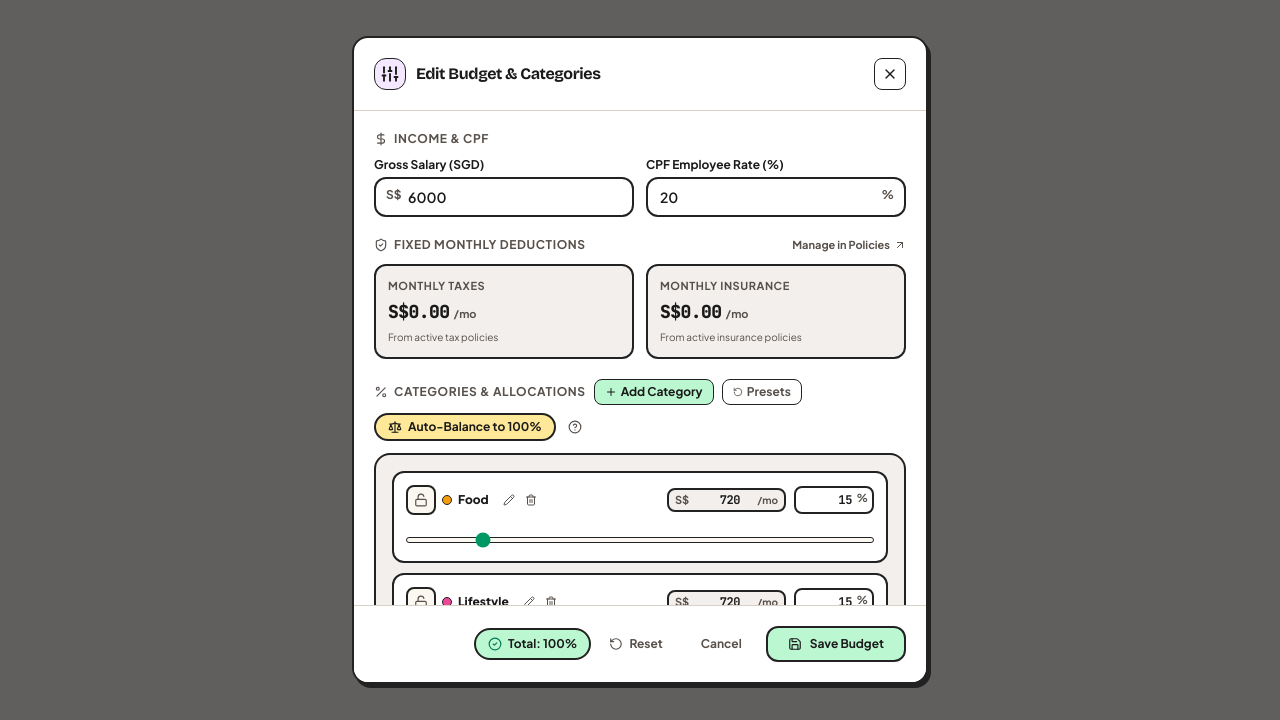
it: BaseProfileEditorModal › auto-balances unlocked categories to 100% while keeping dollar-locked category fixed
// Set Food to $480 (10%) which auto-locks it
Replace the text in the number field named "Monthly dollar amount" in the row of "Food" with "480" at (723, 500), box [691,492,755,508]
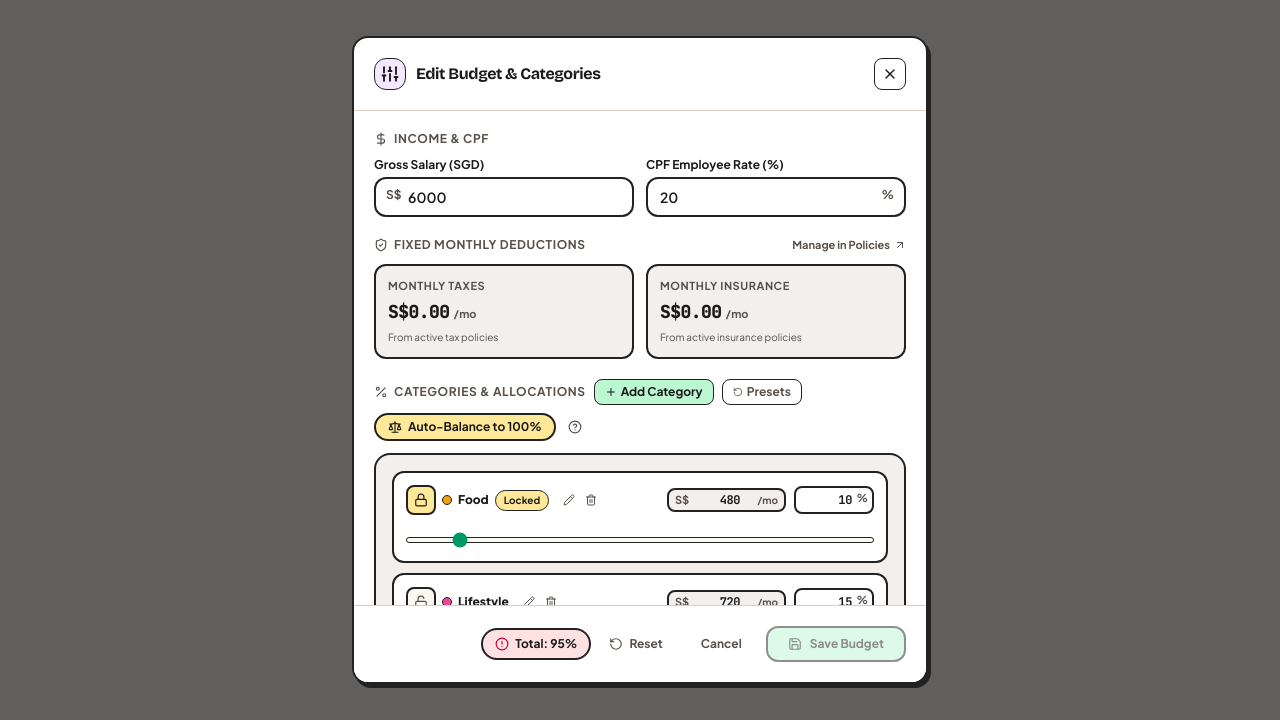
Check: the field labelled "Food" holds "10", box [794,486,874,514]
// Click Auto-Balance to 100%
Click the button "Auto-Balance to 100%" at (465, 427), box [374,413,556,441]
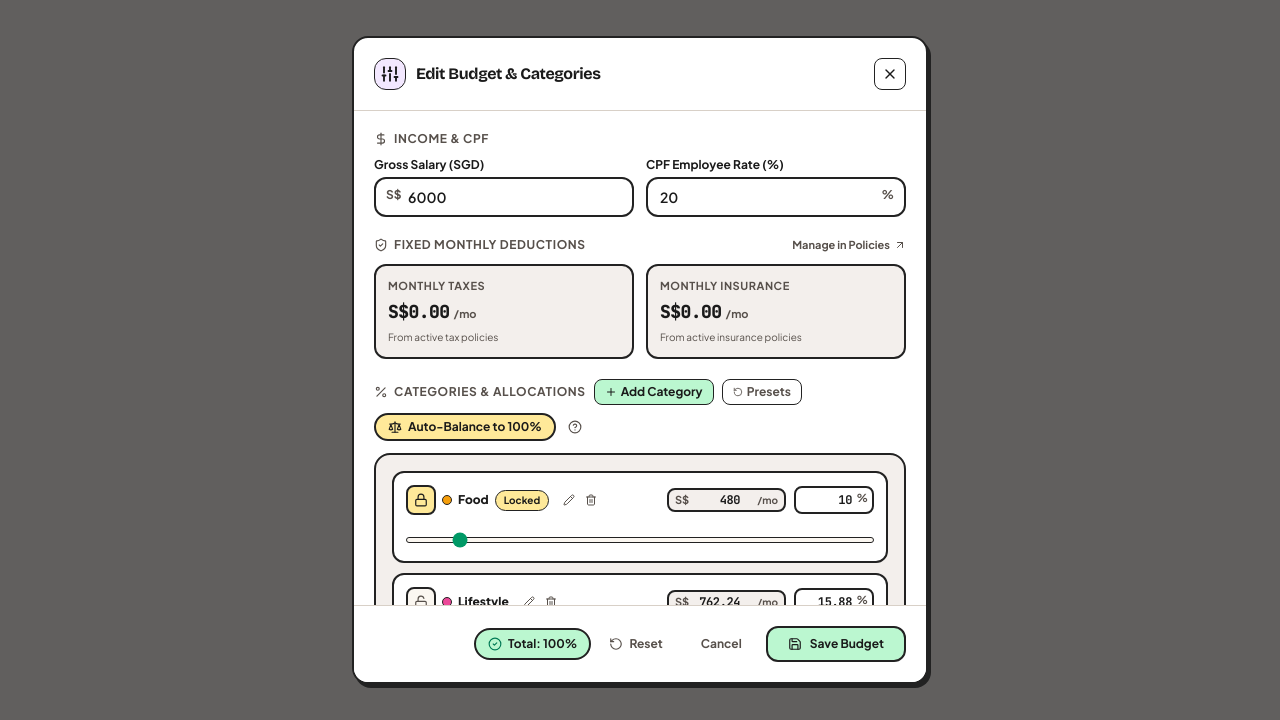
Check: the field labelled "Food" holds "10", box [794,486,874,514]
Check: the text "Total: 100%" is shown, box [508,636,577,652]
